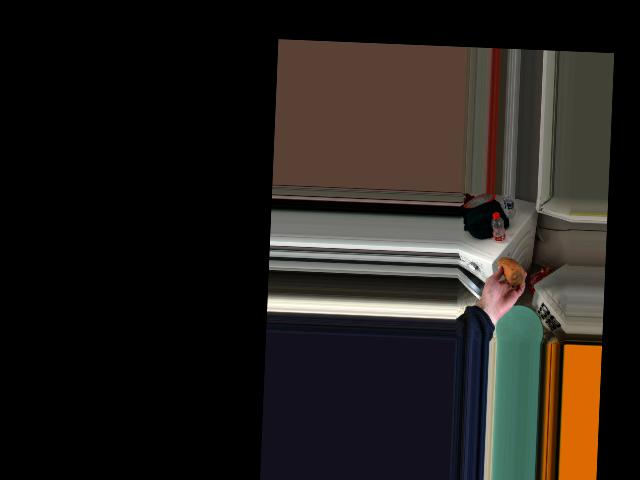sweet_potato: (494, 256, 522, 289)
